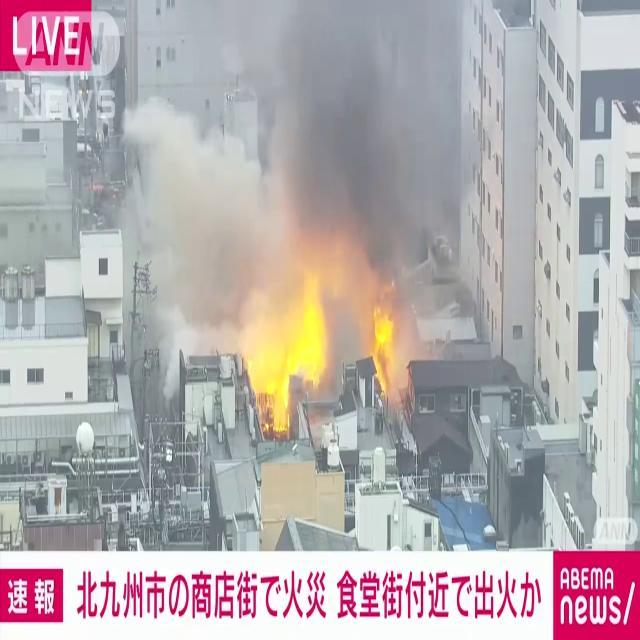Fire: (244, 276, 328, 434), (366, 298, 404, 400)
Smoke: (128, 2, 470, 326)
